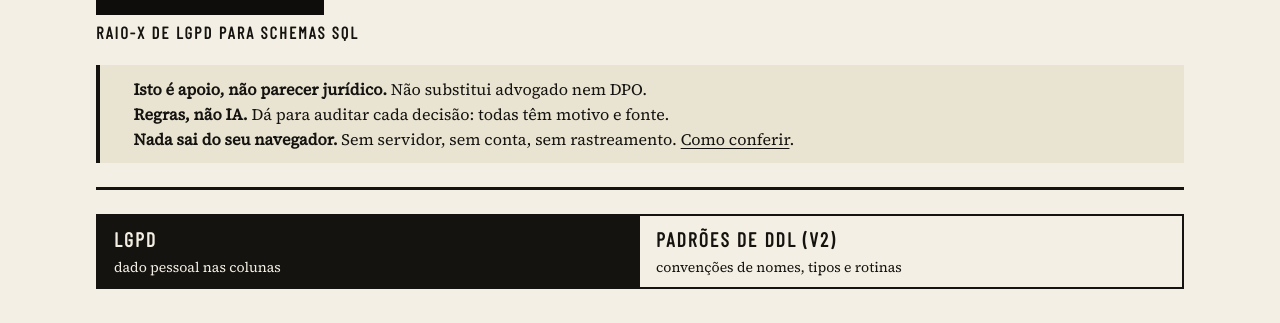
interface: camada Padrões de DDL (v2) › lista as regras para o usuário ler, sem nome de empresa
What coordinates should you click on to do the following:
click the button "Padrões de DDL (v2) convenções de nomes, tipos e rotinas"
I would click on:
 (746, 239)
Its box is [640,216,1182,287].
(page scrolled)
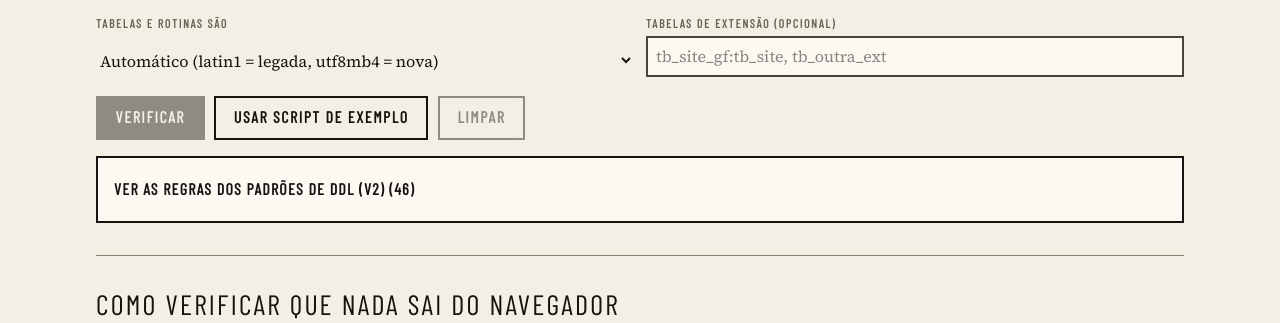
Expected: the heading "Ver as regras dos Padrões de DDL (v2) (46)" is shown, [114,179,415,198]
